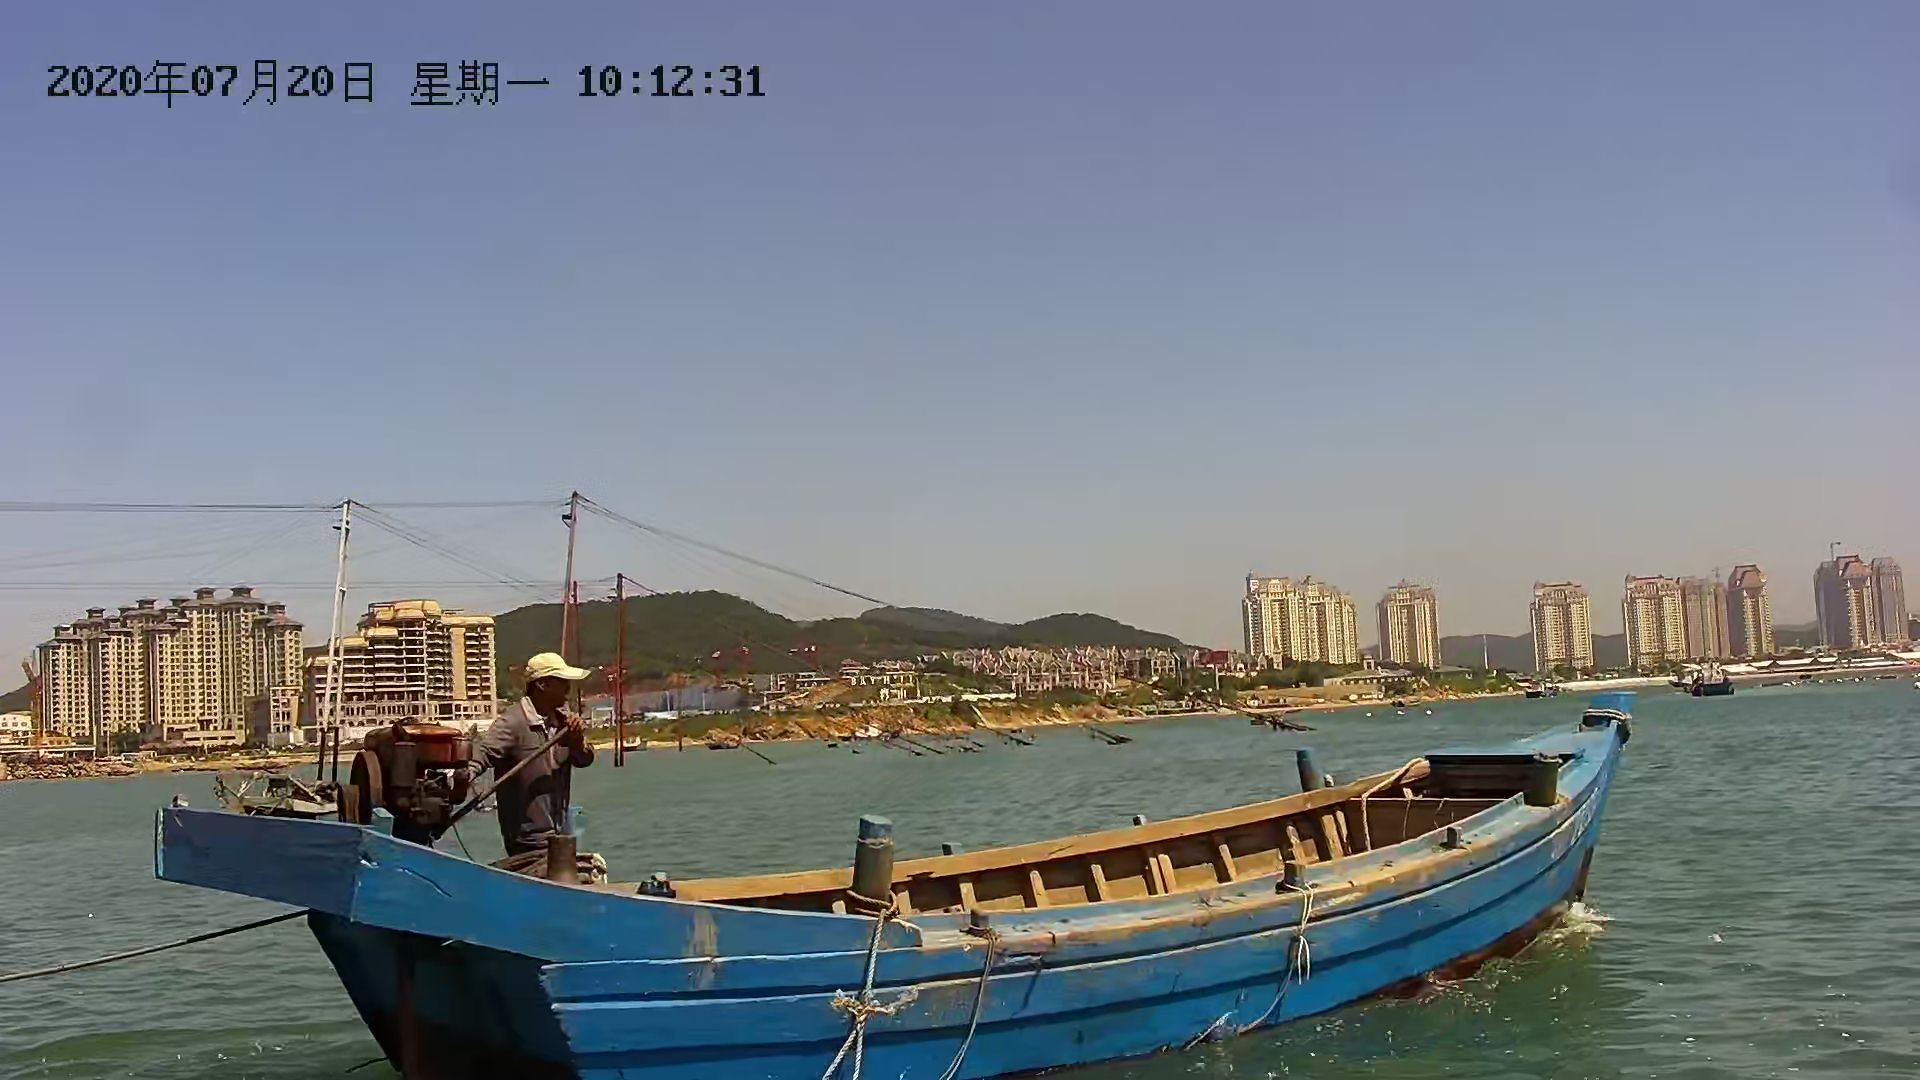boat: (145, 670, 1650, 1072)
mast: (325, 493, 347, 802), (611, 567, 631, 780), (559, 485, 578, 670)
person: (487, 639, 610, 880)
